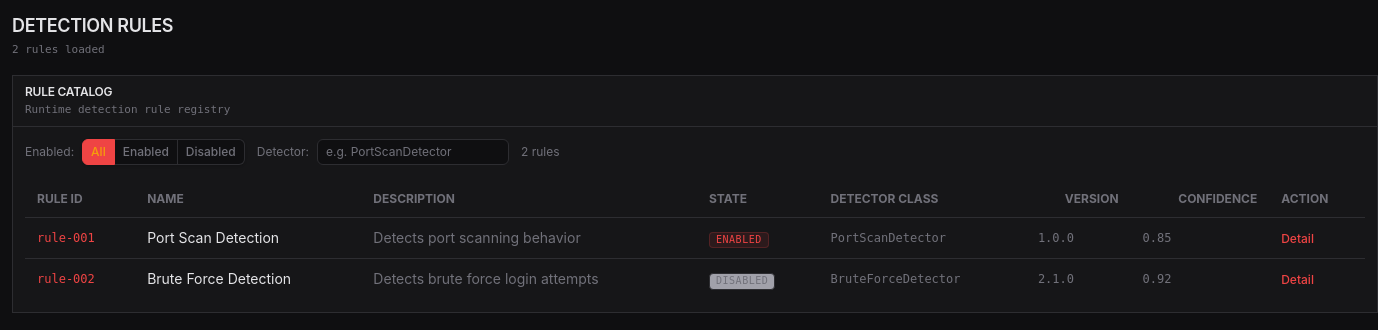
Test case: RulesPage › keeps rule filters visible when the selected filter returns no rules
Click the button "Disabled". click: (211, 152)
box: 178,139 -> 245,165
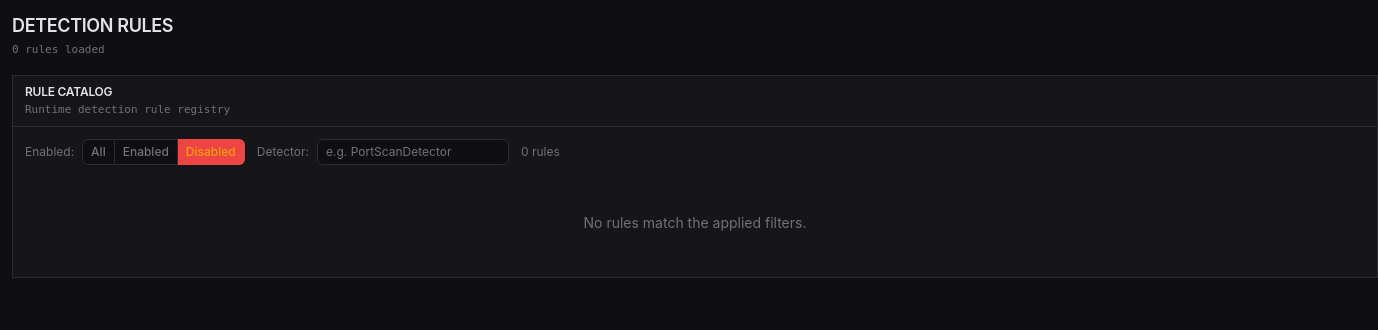
Expected: the button "All" is shown, 82,139 -> 115,165
Now the text "No rules match the applied filters." is shown, box 584,214 -> 806,231
